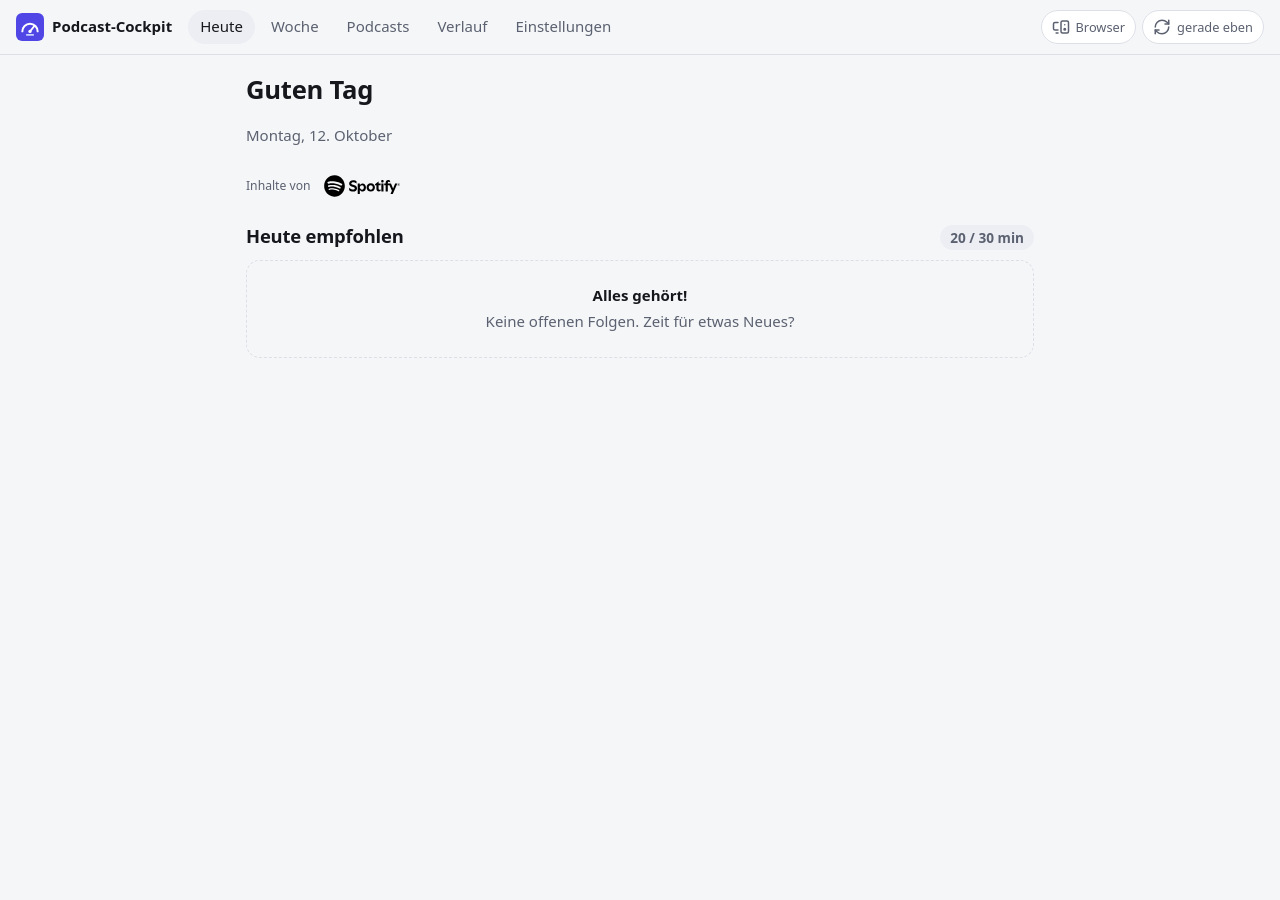
Test: Layout › reports a sync that cannot start
Click the button with aria-label "Mit Spotify synchronisieren".
click(1203, 27)  # box [1142,10,1264,44]
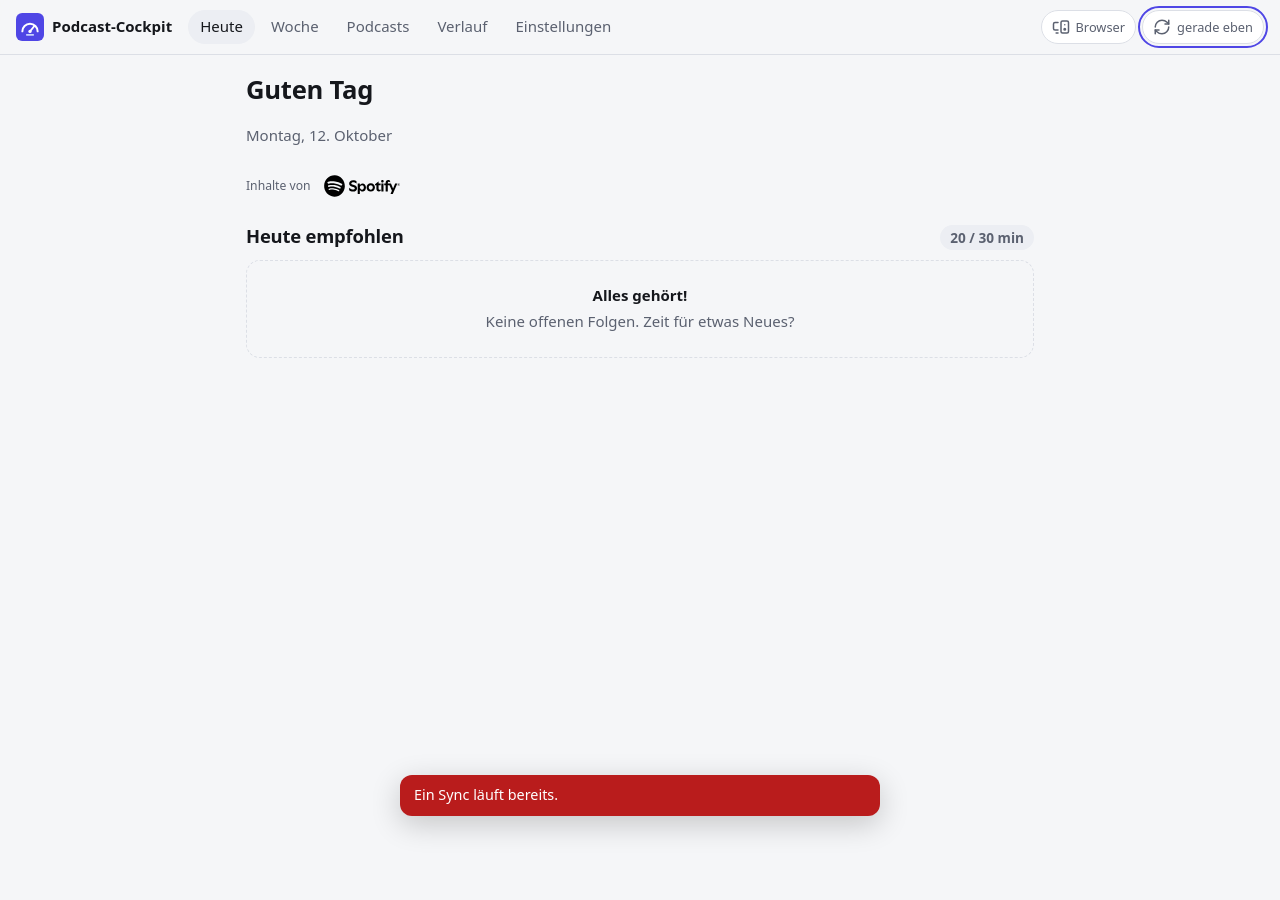
Check: the text "Ein Sync läuft bereits." is shown, box [414,785,558,804]
